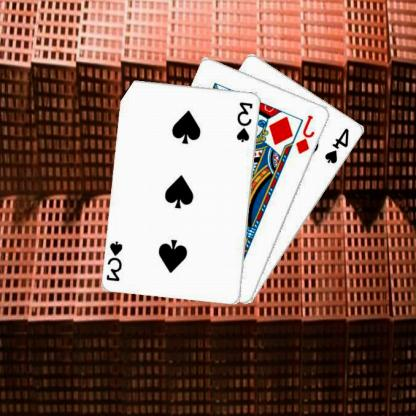3S: (106, 238, 127, 282), (236, 99, 256, 143)
4S: (324, 125, 353, 165)
JD: (295, 113, 319, 156)
